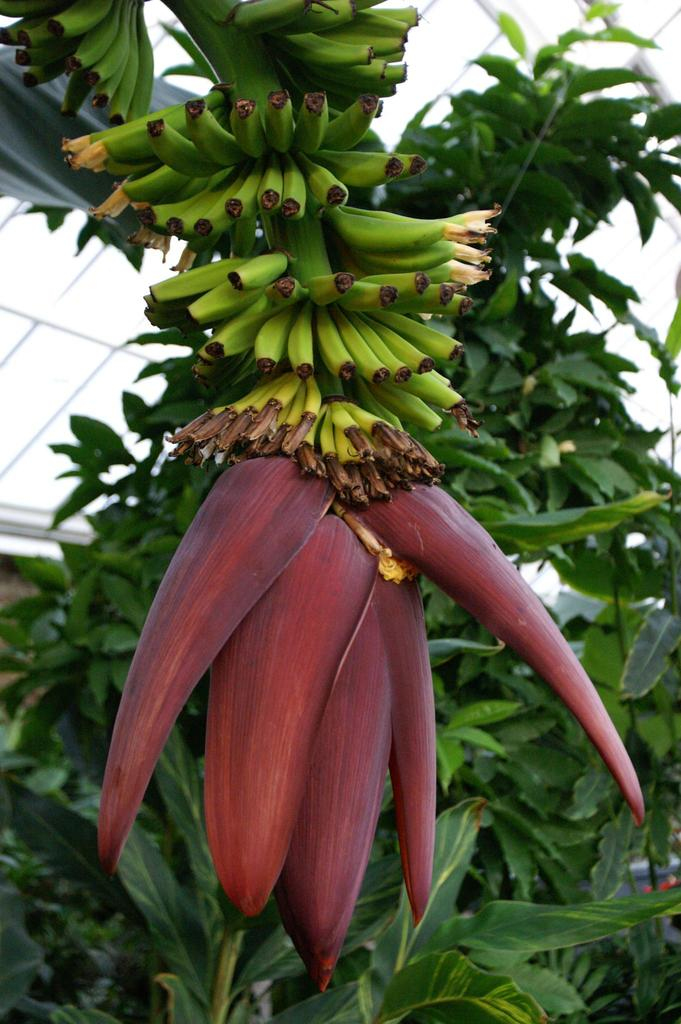Banana: (0, 0, 501, 503)
